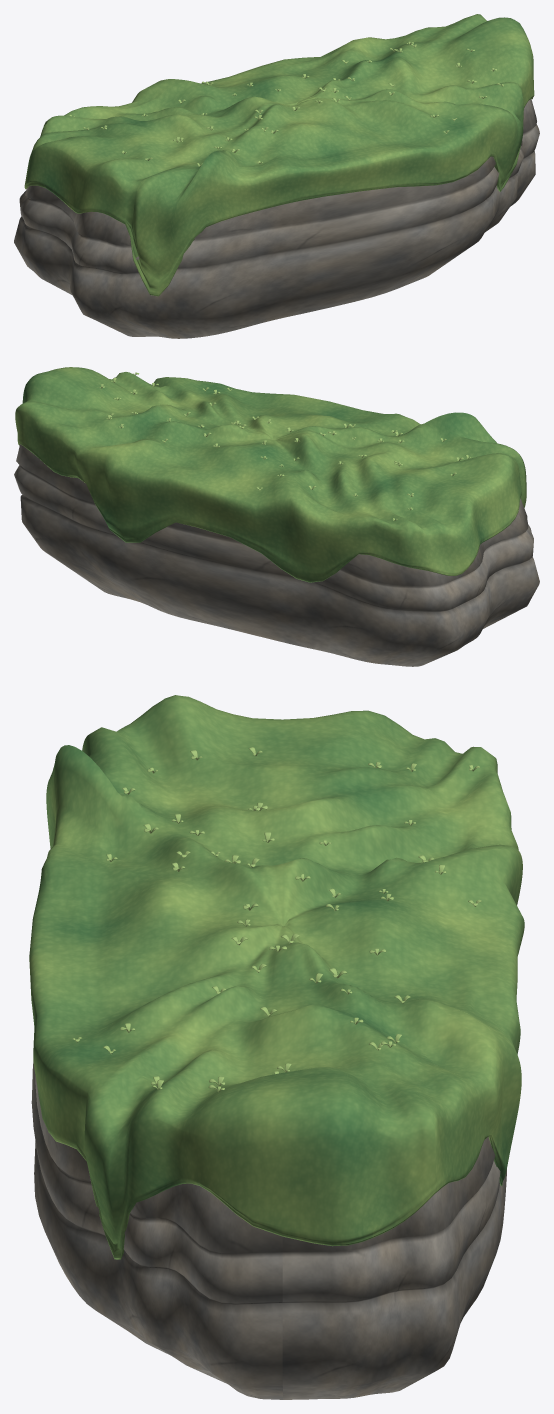
Rendered from SM_Valley_MossCliffShelf.fbx.
3 renders of one model, top to bottom at view 1: azimuth 30°, elevation 25°; view 2: azimuth 150°, elevation 25°; view 3: azimuth 270°, elevation 25°, orthographic. The views are drawn at different scales.
Visible parts, largest first — view 1: SM_Valley_MossCliffShelf; view 2: SM_Valley_MossCliffShelf; view 3: SM_Valley_MossCliffShelf.
Boxes of the visible parts, bbox=[...] form: SM_Valley_MossCliffShelf: bbox=[14, 14, 539, 338]; SM_Valley_MossCliffShelf: bbox=[14, 367, 539, 666]; SM_Valley_MossCliffShelf: bbox=[29, 695, 524, 1399].
Size of the model in its own units: 473 by 213 by 178.
Materials: 3 (2 with a texture image).
